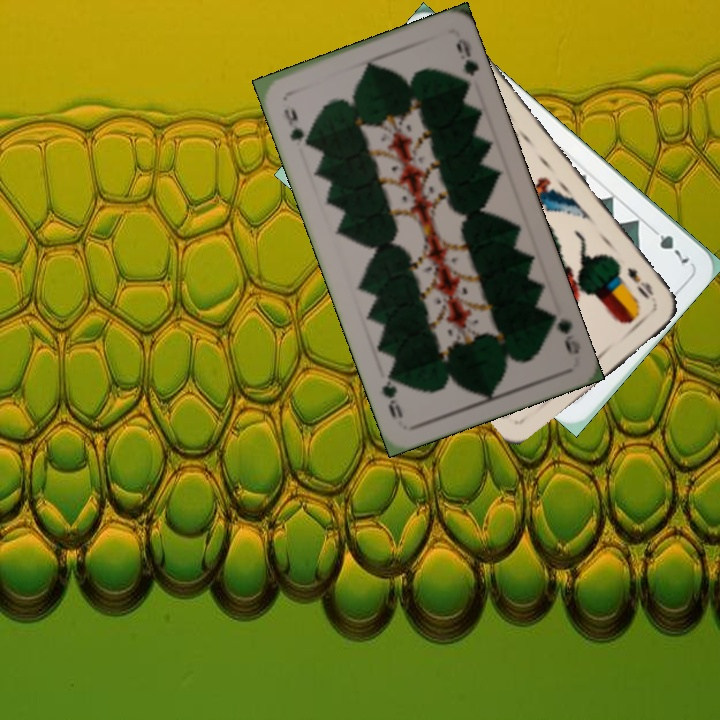EO: (623, 263, 657, 303)
G7: (645, 221, 693, 266)
G9: (543, 308, 584, 358), (279, 102, 312, 150)
